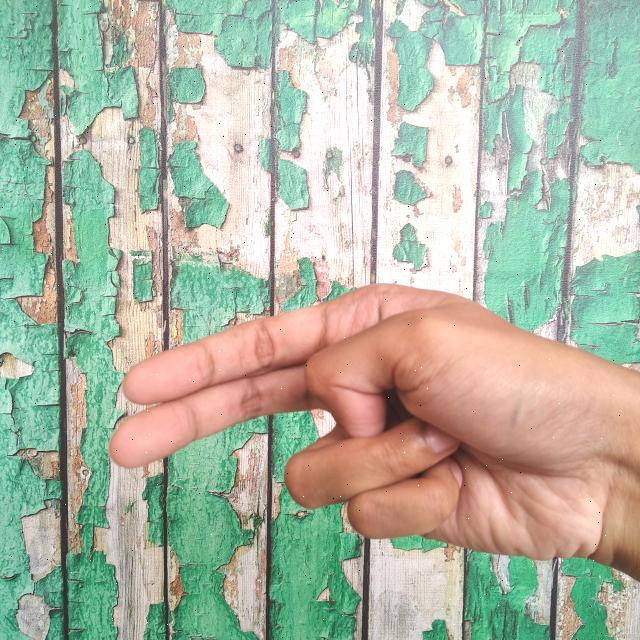H: (99, 271, 640, 591)
